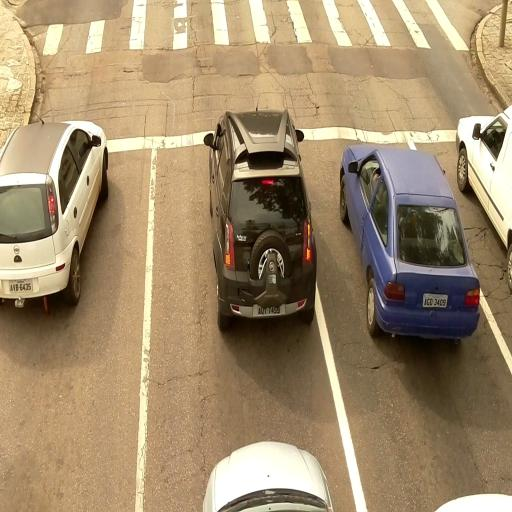car: (337, 142, 480, 342), (207, 105, 314, 331), (1, 117, 110, 309), (455, 100, 512, 288), (202, 440, 335, 510)
